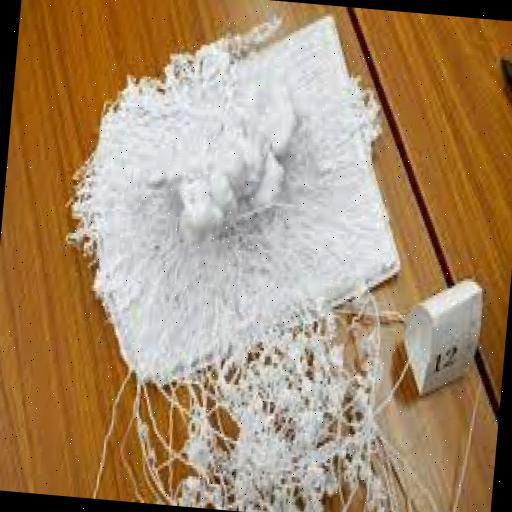spaghetti: (60, 34, 408, 494)
